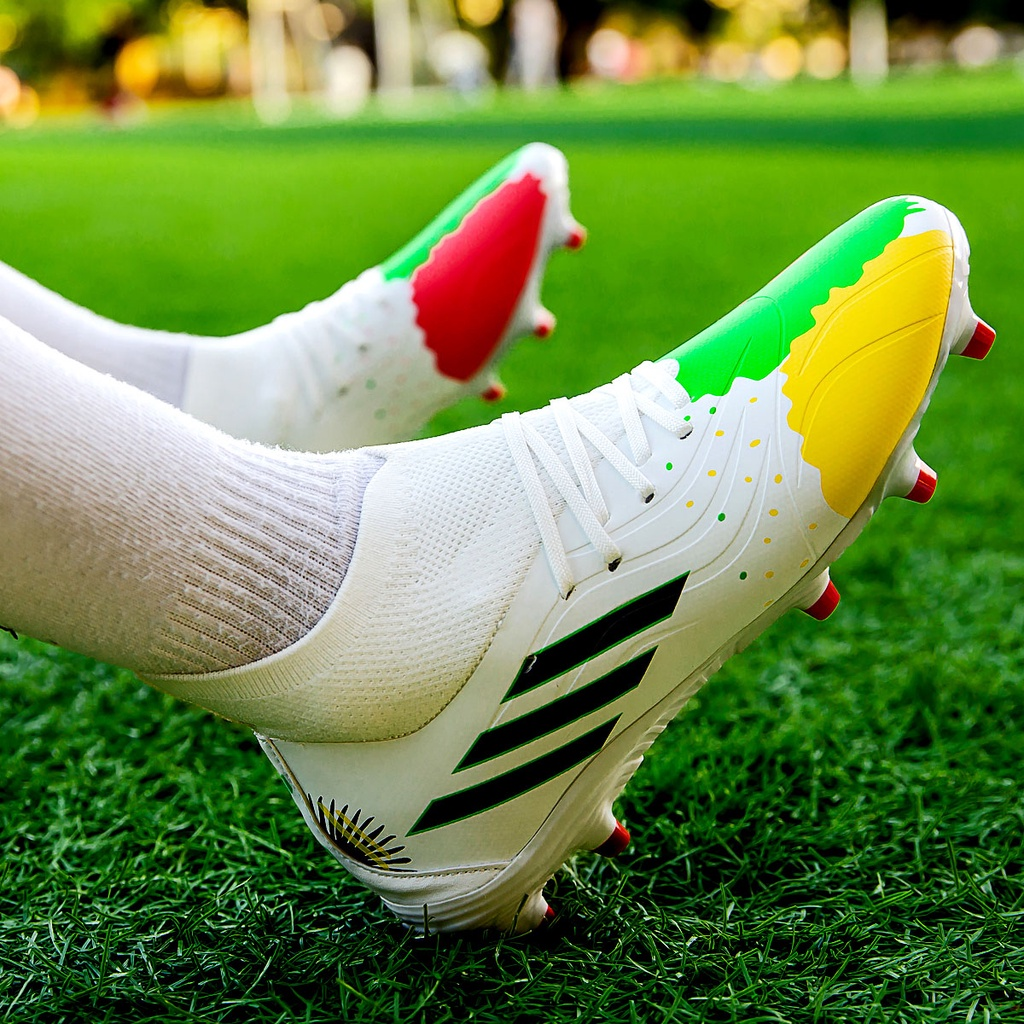soccer shoes: (133, 197, 998, 936), (179, 137, 586, 439)
